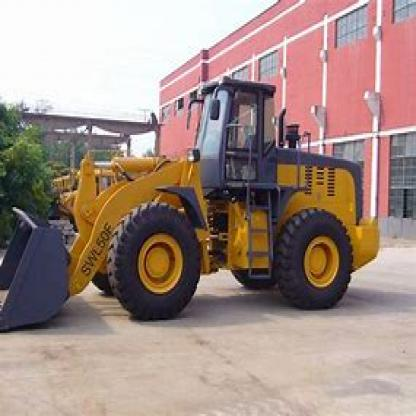bull_dozer/loader/grader: (0, 68, 388, 336)
